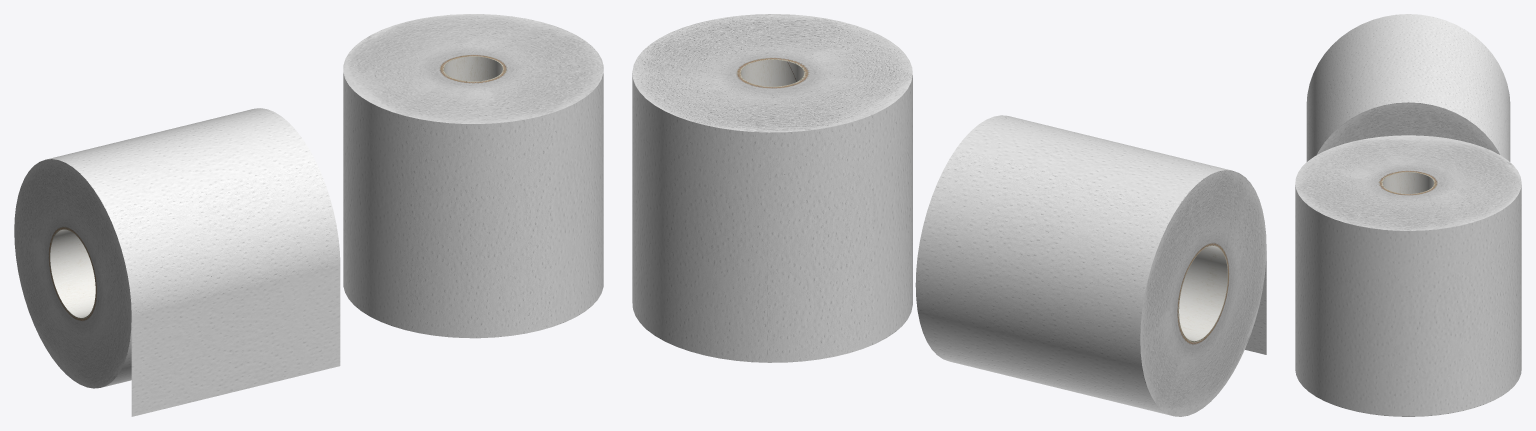
File: mpm_f01__Toilet_paper.fbx
The picture shows the model from 3 angles, left to right: view 1: azimuth 30°, elevation 25°; view 2: azimuth 150°, elevation 25°; view 3: azimuth 270°, elevation 25°; orthographic projection. The views are drawn at different scales.
Parts seen in each view (by area): view 1: mpm f01 Toilet paper 2, mpm f01 Toilet paper 1; view 2: mpm f01 Toilet paper 2, mpm f01 Toilet paper 1; view 3: mpm f01 Toilet paper 2, mpm f01 Toilet paper 1.
Part boxes in pixels (x1,y1,x2,y2): mpm f01 Toilet paper 2: (343, 14, 603, 338); mpm f01 Toilet paper 1: (14, 108, 340, 416); mpm f01 Toilet paper 2: (632, 14, 912, 362); mpm f01 Toilet paper 1: (915, 115, 1266, 416); mpm f01 Toilet paper 2: (1295, 135, 1521, 416); mpm f01 Toilet paper 1: (1306, 14, 1510, 161).
Size of the model in its own units: 249 by 99.13 by 109.
